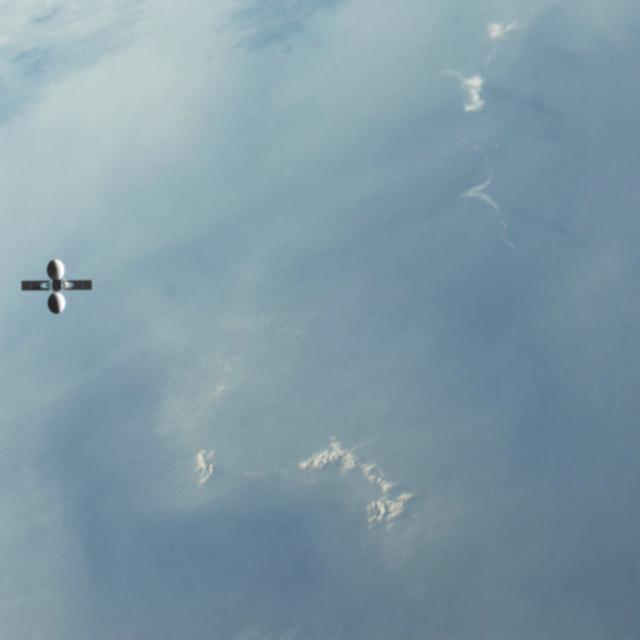satellite: (20, 251, 99, 317)
